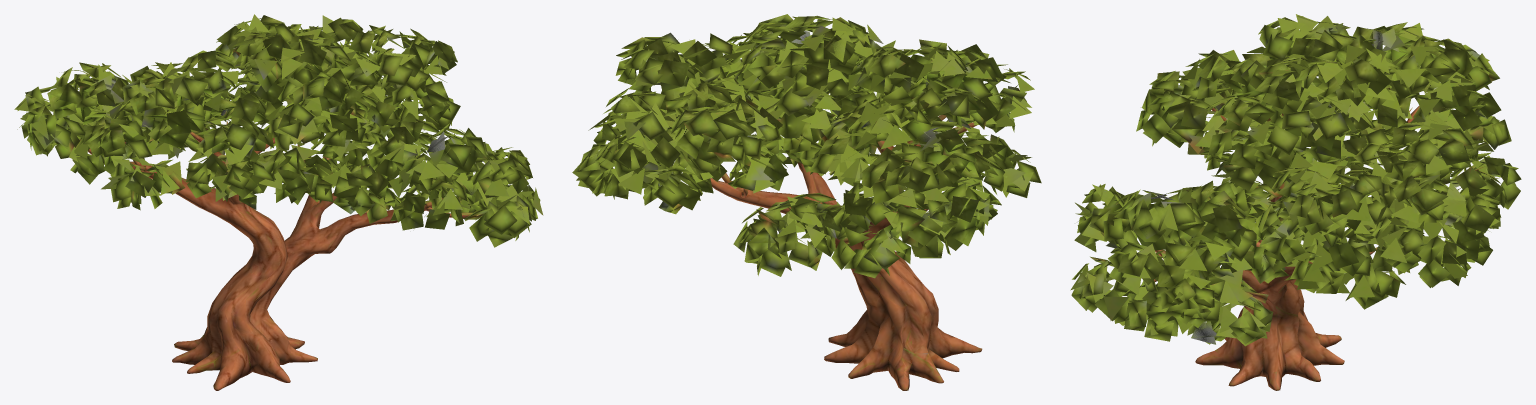
The model's file is umbrella-pine.glb.
3 views of the same model, side by side, from view 1: azimuth 30°, elevation 25°; view 2: azimuth 150°, elevation 25°; view 3: azimuth 270°, elevation 25° (orthographic). The views are drawn at different scales.
Visible parts, largest first — view 1: umbrella-pine_LOD0; view 2: umbrella-pine_LOD0; view 3: umbrella-pine_LOD0.
Part boxes in pixels (<box>): umbrella-pine_LOD0: <box>14,14,543,390</box>; umbrella-pine_LOD0: <box>572,14,1041,390</box>; umbrella-pine_LOD0: <box>1070,14,1521,390</box>.
Size of what is drawn, in the model's own units: 1 by 0.7419 by 0.9458.
Materials: 1 (1 with a texture image).
